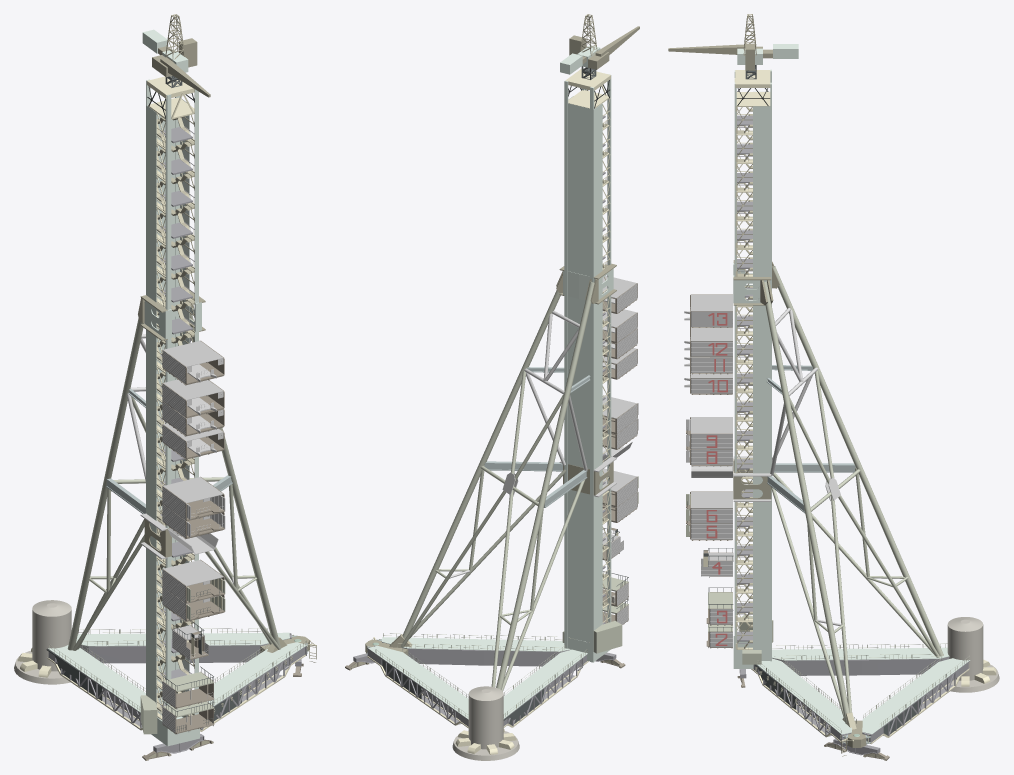
The model's file is rocket-launch-pad.fbx.
The picture shows the model from 3 angles, left to right: view 1: azimuth 30°, elevation 25°; view 2: azimuth 150°, elevation 25°; view 3: azimuth 270°, elevation 25°; orthographic projection. The views are drawn at different scales.
Parts seen in each view (by area): view 1: Plane, Cube.007, Cube.040, Cylinder.007, Cylinder.021, Cube.006, Plane.126, Plane.008, Plane.135, Cylinder.008, Plane.007, Cube.038 (+17 smaller); view 2: Cube.007, Cube.038, Cylinder.007, Cylinder.008, Plane, Cube.031, Cylinder.021, Plane.135, Cube.039, Plane.008, Plane.126, Plane.007 (+13 smaller); view 3: Cube.007, Plane, Cylinder.008, Cylinder.007, Cube.114, Plane.135, Plane.008, Plane.126, Cylinder.021, Plane.007, Cube.040, Cube.036 (+22 smaller).
Boxes of the visible parts, x1,y1,x2,y2 form: Plane: (156,99,194,719); Cube.007: (146,98,189,705); Cube.040: (167,89,198,714); Cylinder.007: (67,302,144,650); Cylinder.021: (32,600,71,671); Cube.006: (80,634,291,663); Plane.126: (48,645,162,721); Plane.008: (176,642,306,719); Plane.135: (76,632,289,646); Cylinder.008: (182,300,281,648); Plane.007: (147,76,194,119); Cube.038: (146,79,179,694); Cube.007: (568,96,602,642); Cube.038: (564,80,594,662); Cylinder.007: (496,281,594,689); Cylinder.008: (402,290,561,639); Plane: (569,90,610,642); Cube.031: (389,644,569,666); Cylinder.021: (468,686,503,749); Plane.135: (368,646,468,719); Cube.039: (581,75,611,641); Plane.008: (382,637,585,651); Plane.126: (503,649,587,718); Plane.007: (565,68,610,108); Cube.007: (753,91,770,649); Plane: (735,105,769,649); Cylinder.008: (764,281,849,724); Cylinder.007: (772,266,943,656); Cube.114: (772,656,949,675); Plane.135: (862,658,970,734); Plane.008: (757,658,851,734); Plane.126: (772,647,949,660); Cylinder.021: (947,617,983,680); Plane.007: (735,70,770,106); Cube.040: (734,70,735,649); Cube.036: (869,661,969,744).
Size of the model in its own units: 1036 by 3093 by 1398.
